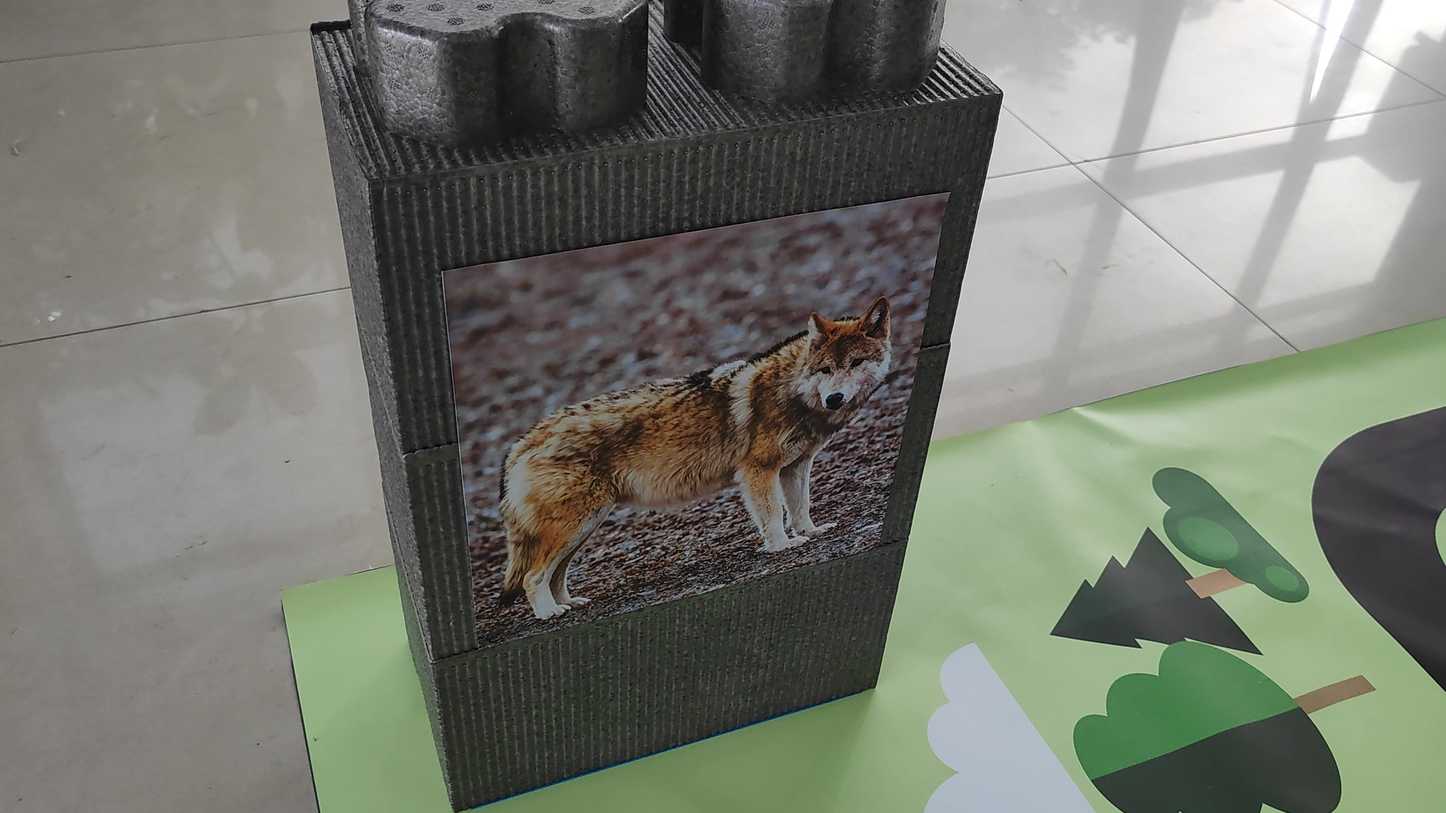wolf: (485, 298, 882, 645)
